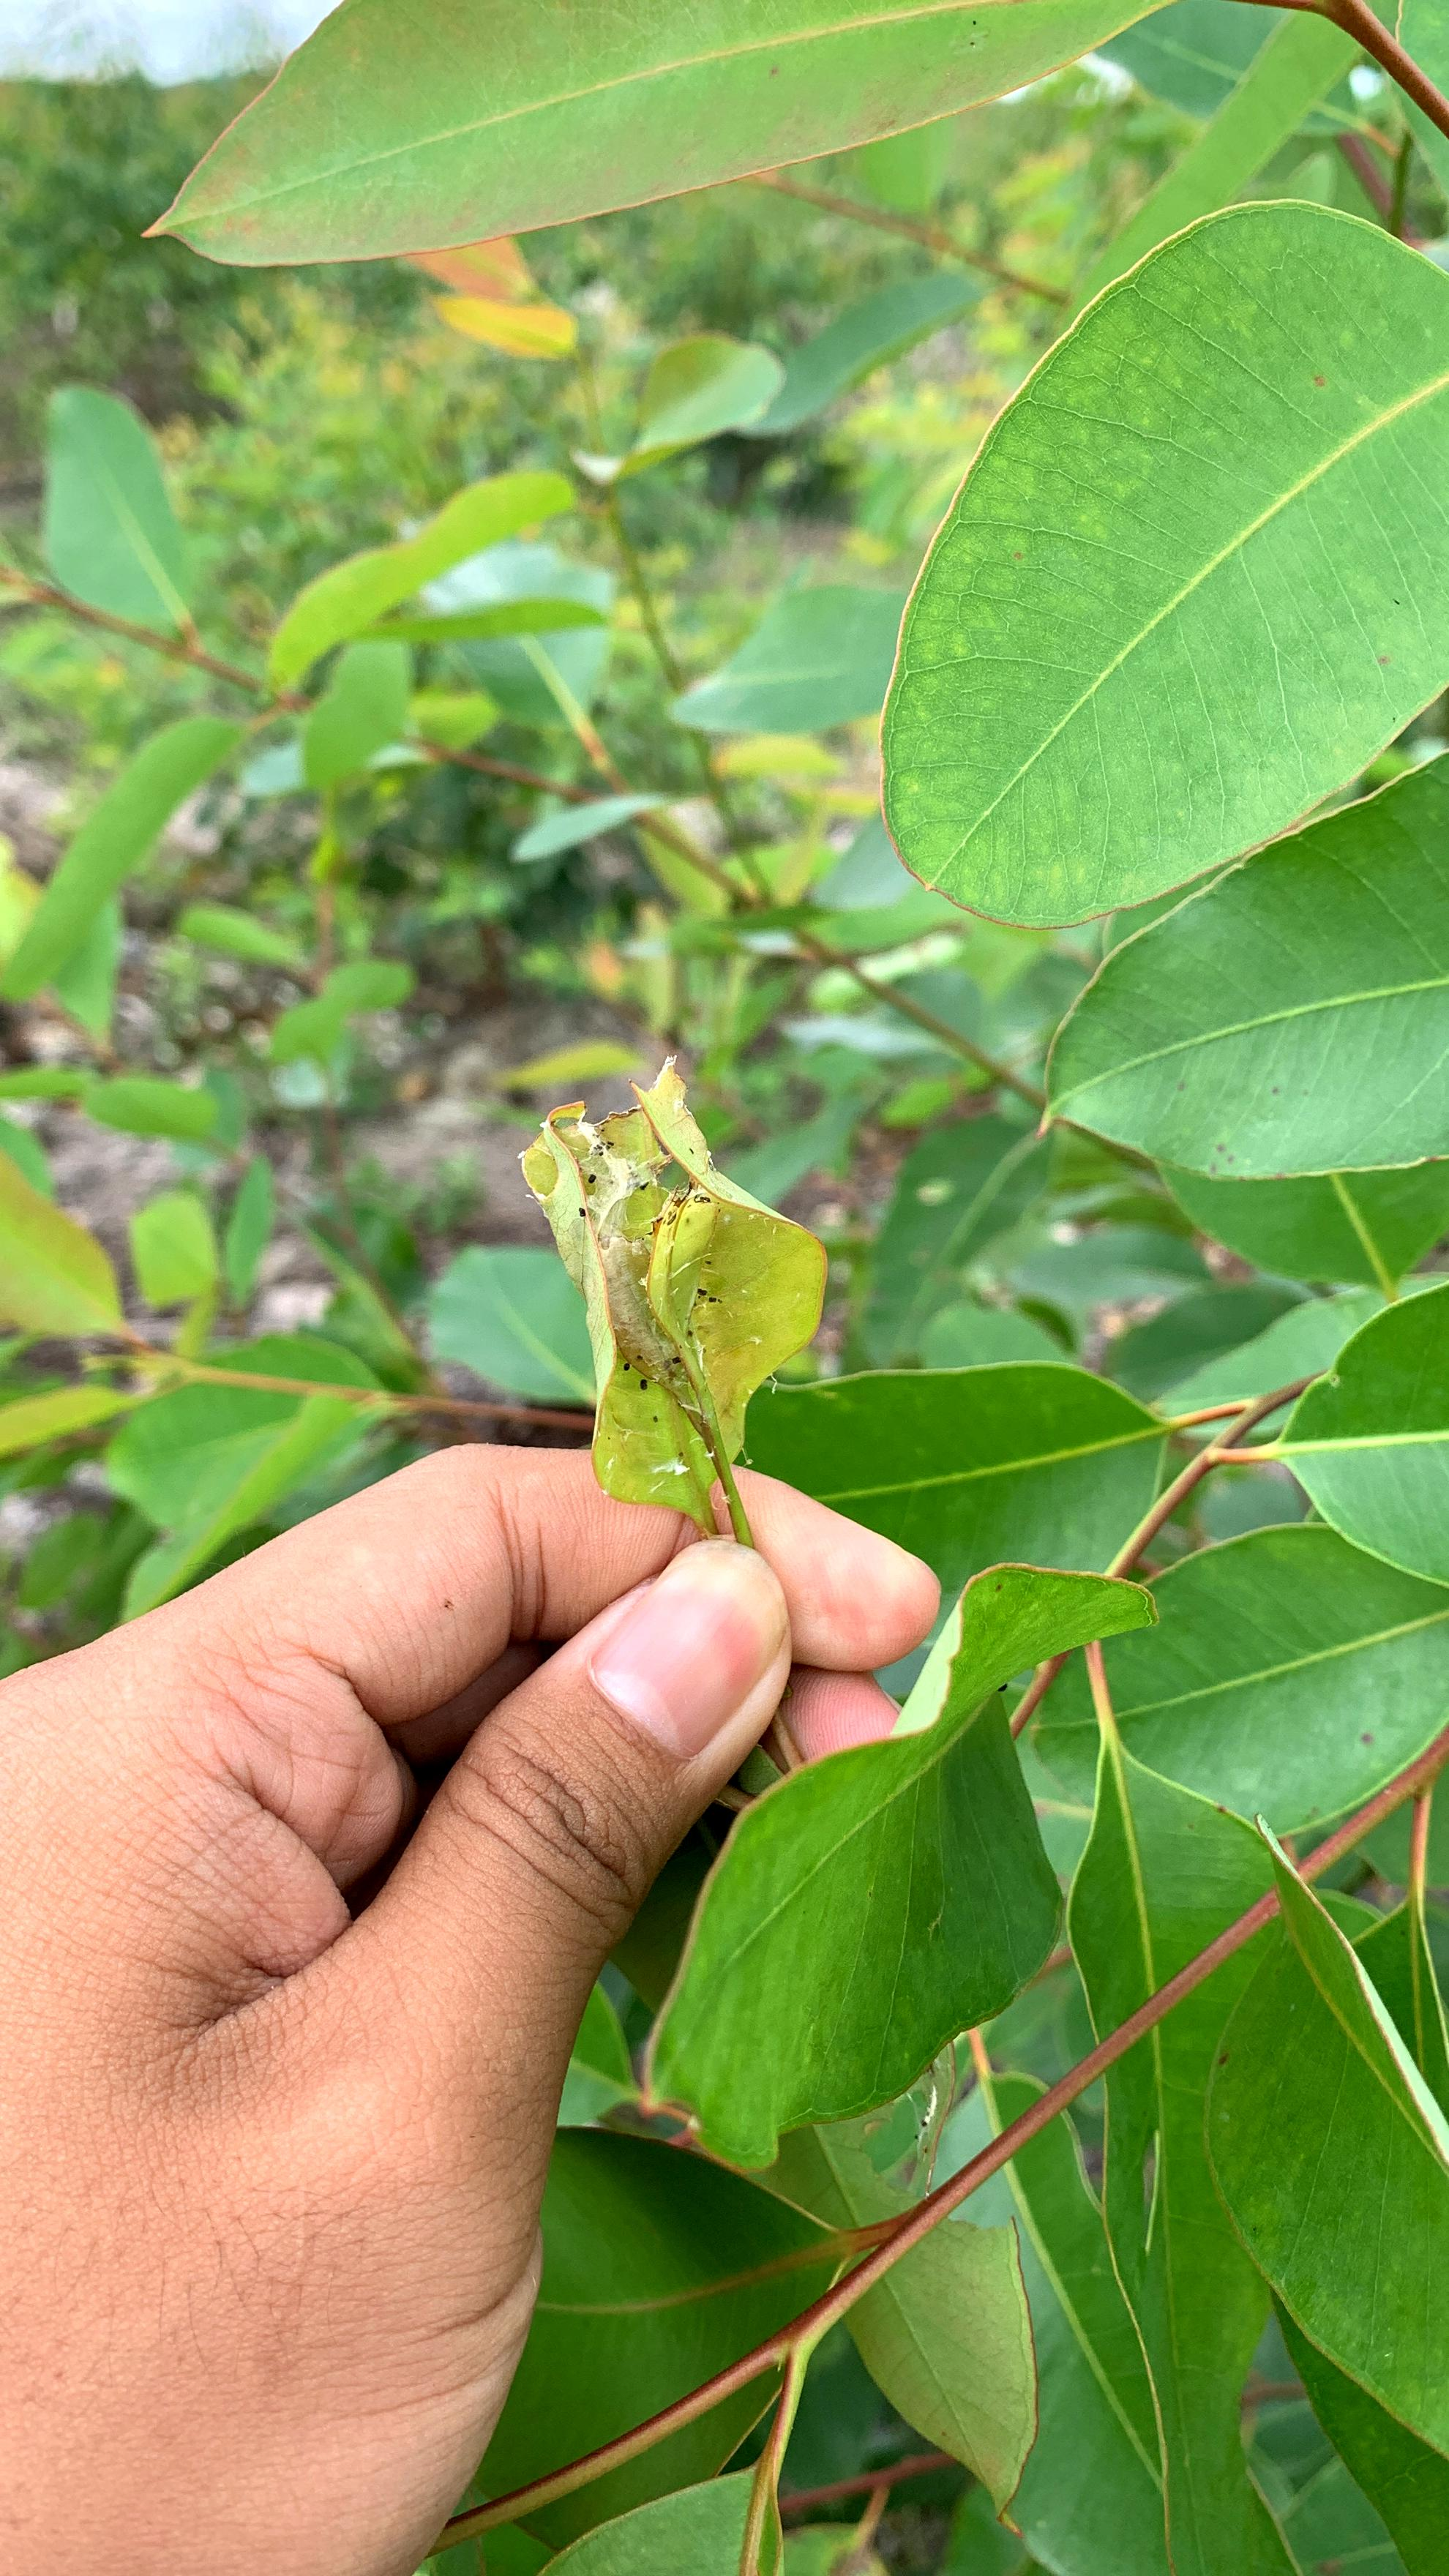Leaf Roller - Leaf: (517, 1066, 808, 1521)
